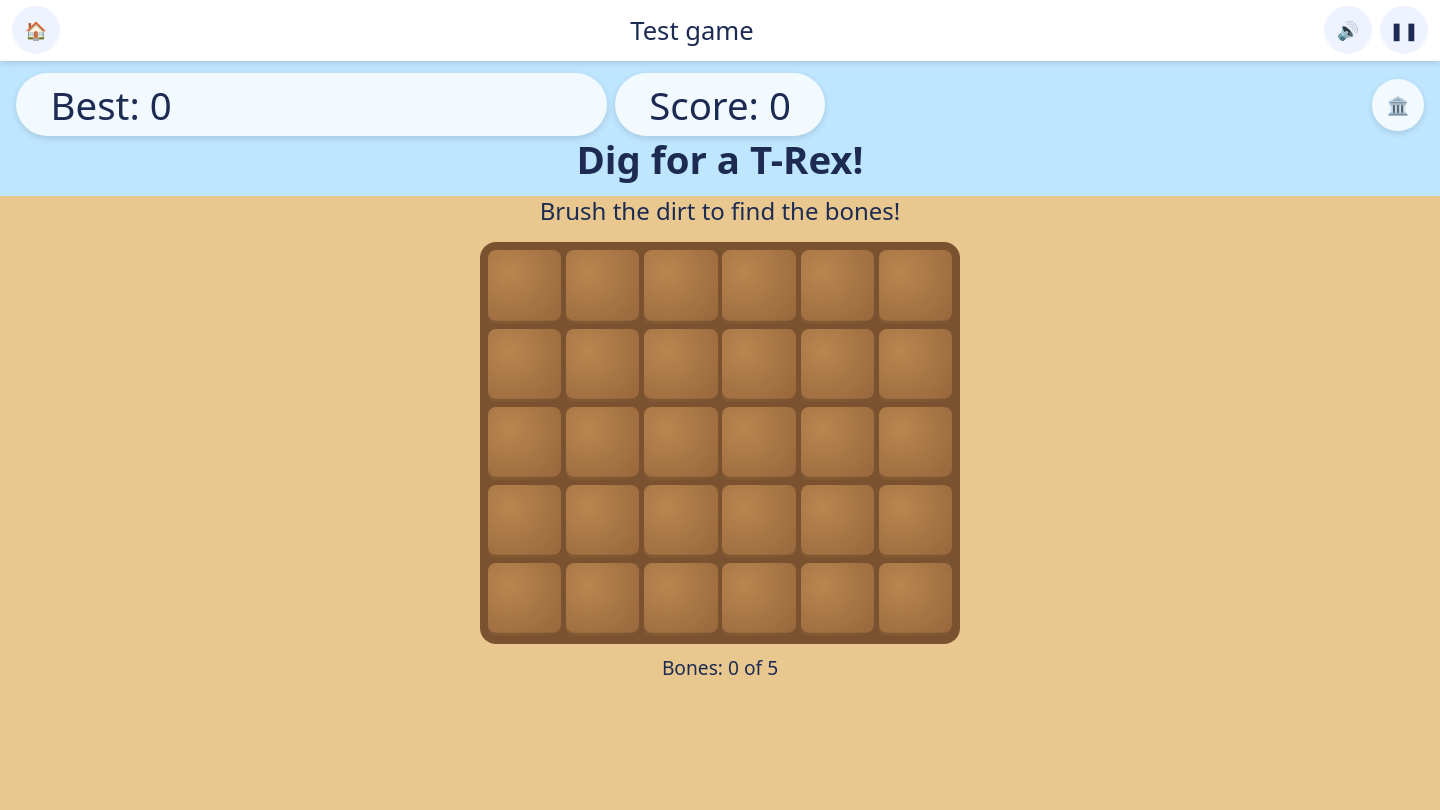
DigScreen › moves on to building once every bone is dug up
Click the button named "Dirt 1" at (525, 287), box [488,250,561,324]
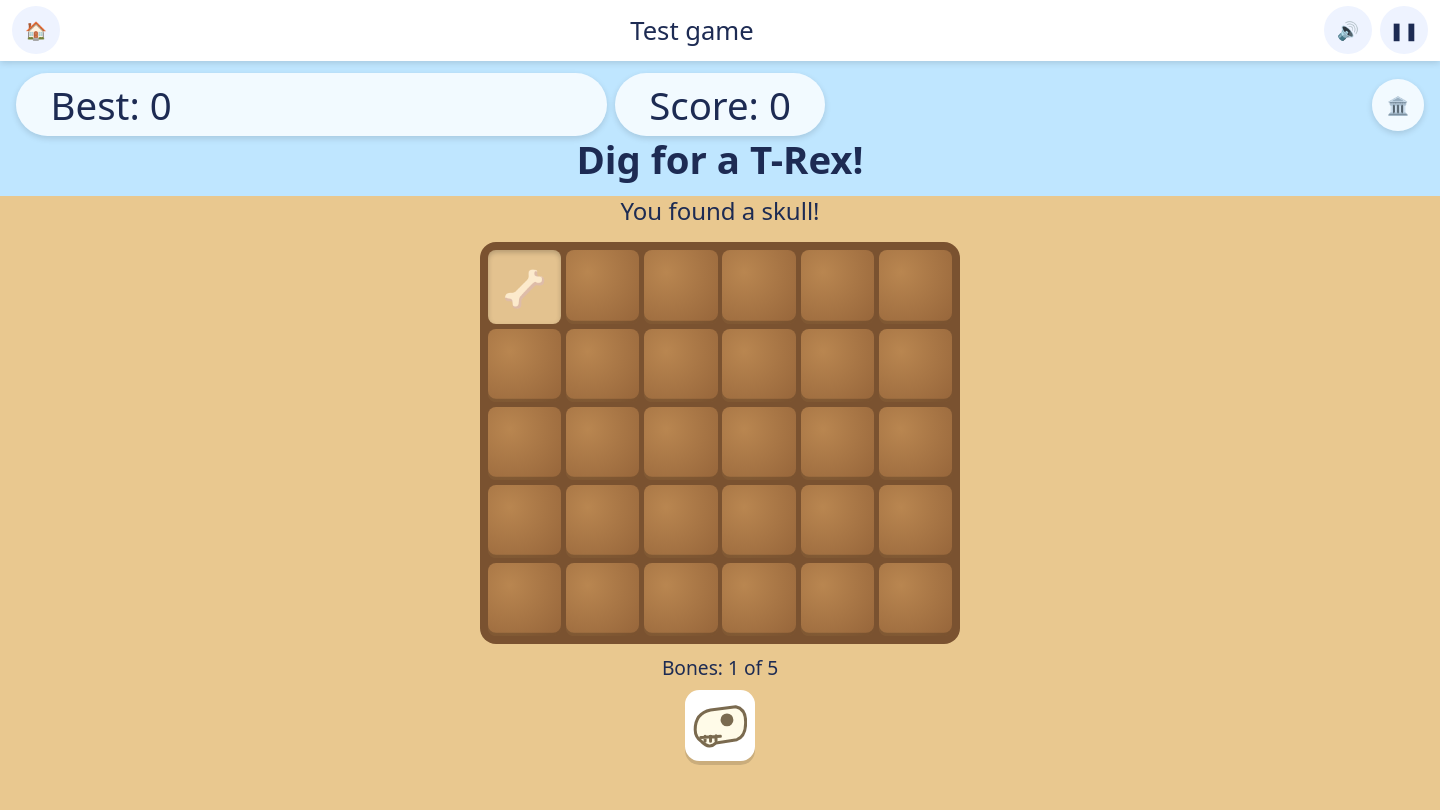
Click the button named "Dirt 2" at (603, 287), box [566,250,639,324]
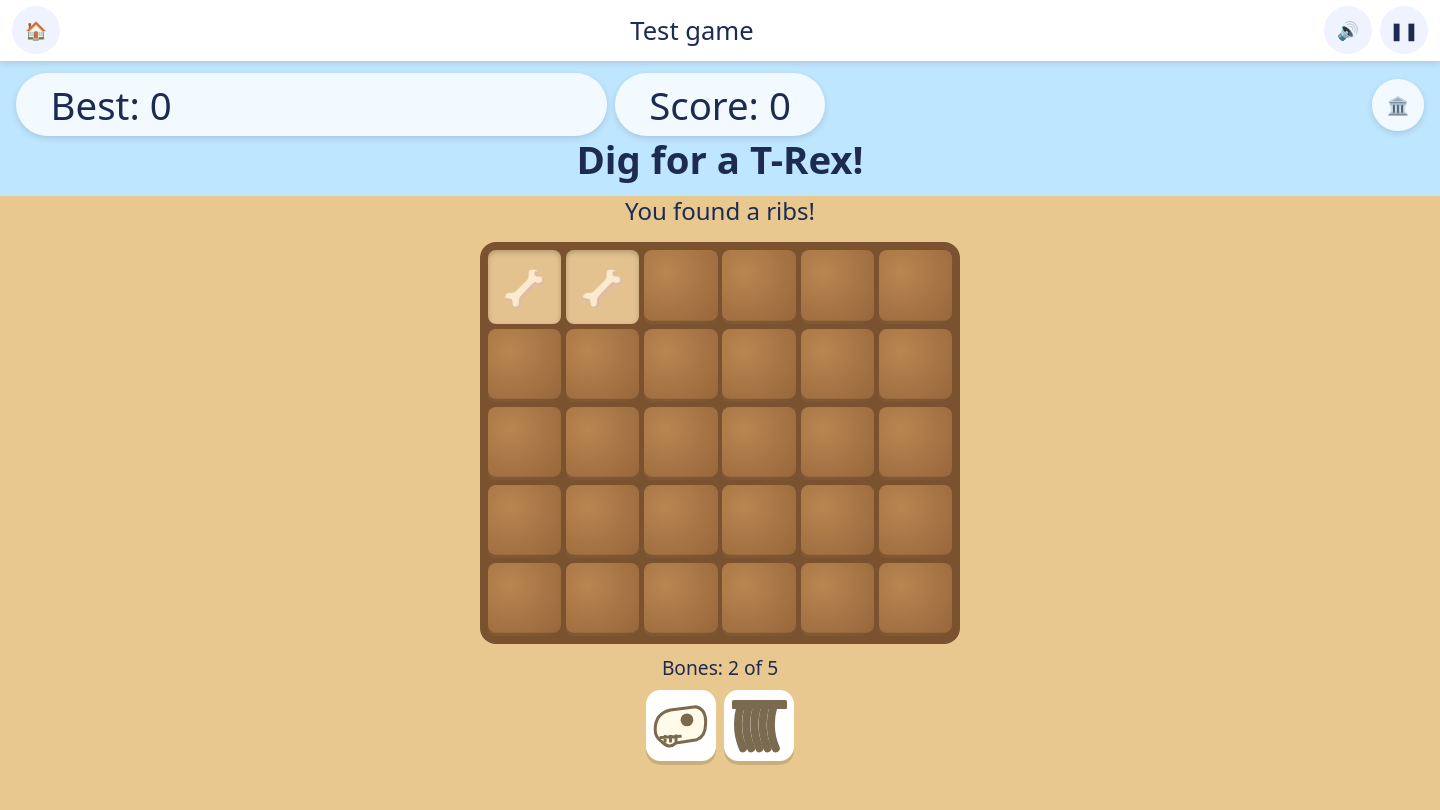
Click the button named "Dirt 3" at (681, 287), box [644,250,718,324]
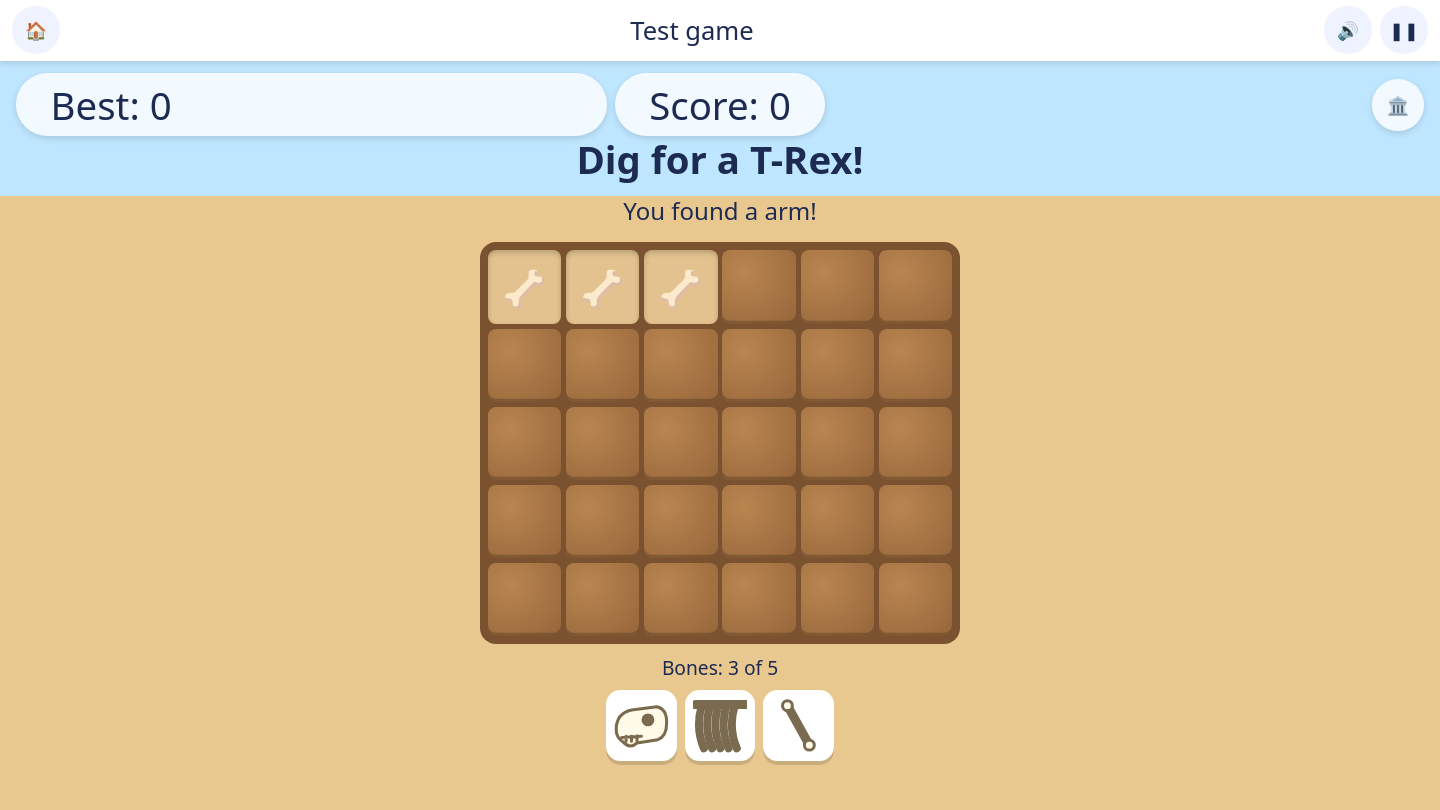
Click the button named "Dirt 4" at (759, 287), box [722,250,796,324]
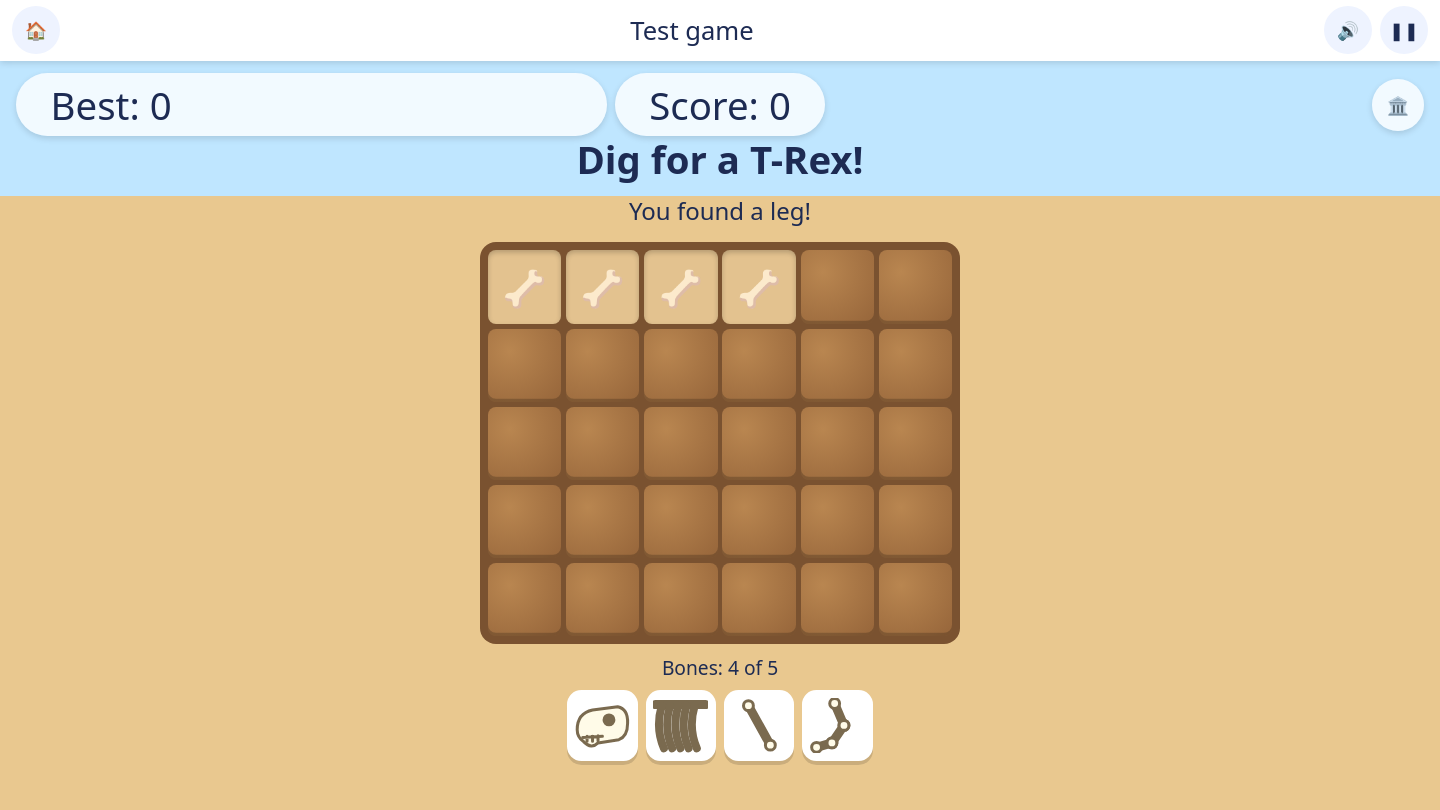
Click the button named "Dirt 5" at (837, 287), box [801,250,874,324]
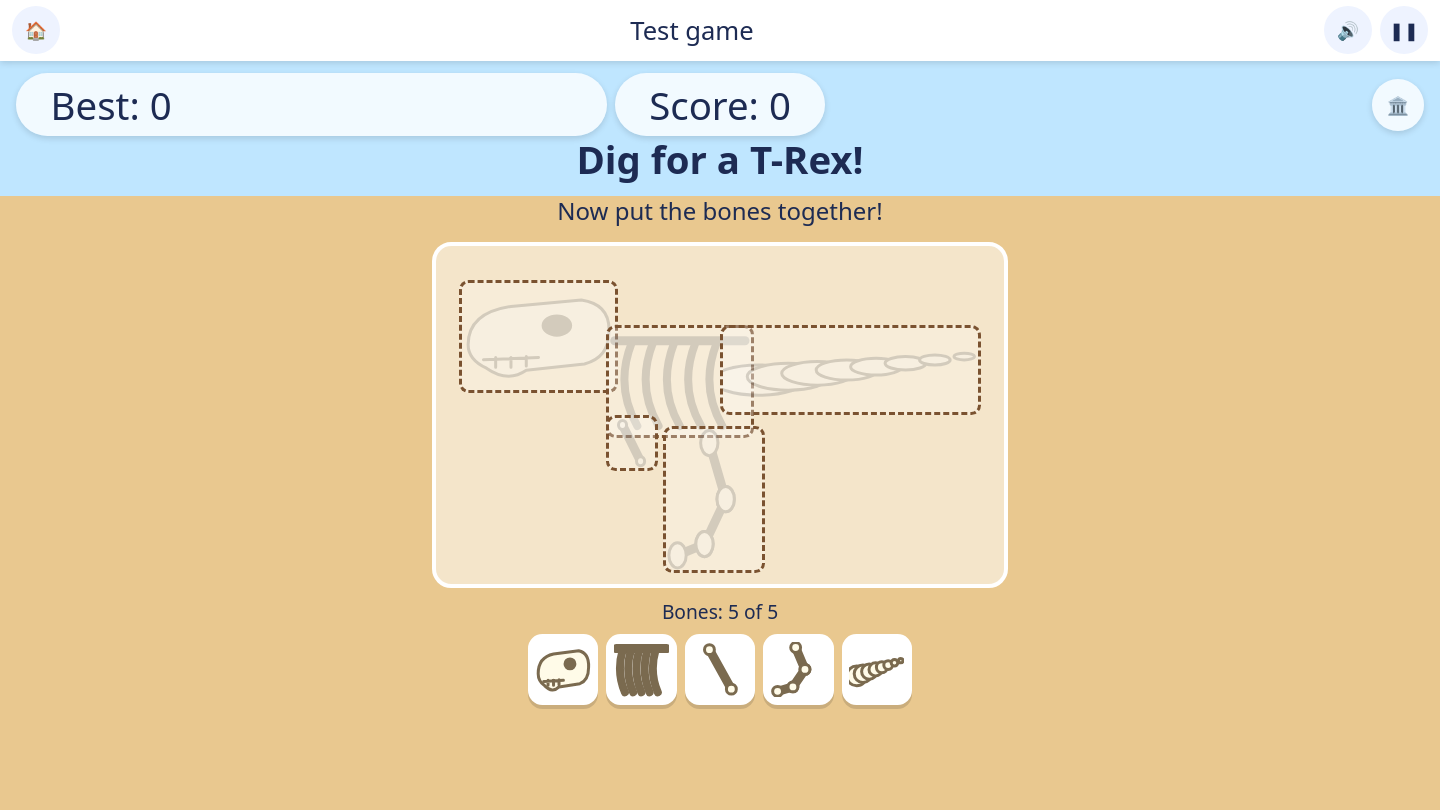
Expected: the message "Now put the bones together!" is shown, [557,194,883,233]
